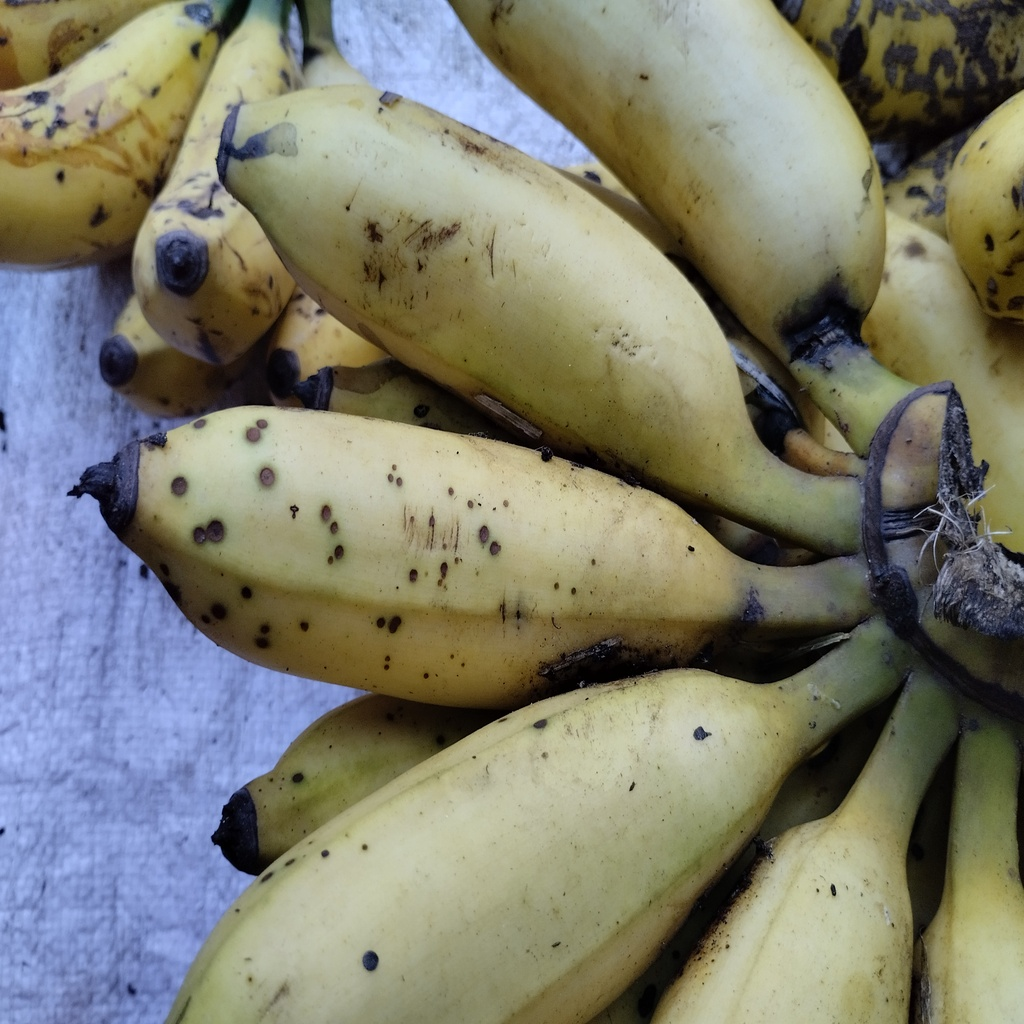unhealthy: (227, 87, 785, 494), (131, 403, 710, 707)
